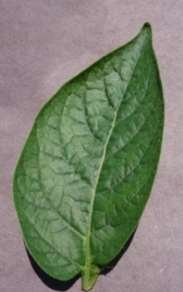potato_leaf: (11, 20, 164, 285)
